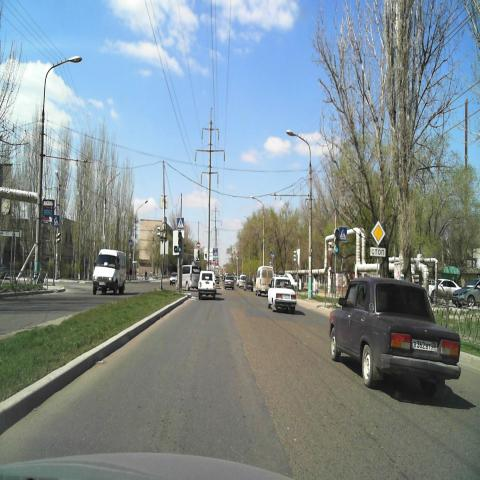6_16: (369, 246, 387, 258)
